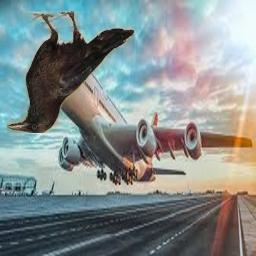Crow: (7, 11, 134, 133)
